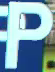Parking: (5, 1, 54, 70)
